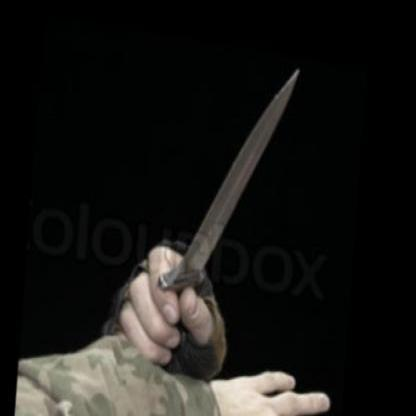knife: (143, 24, 317, 348)
